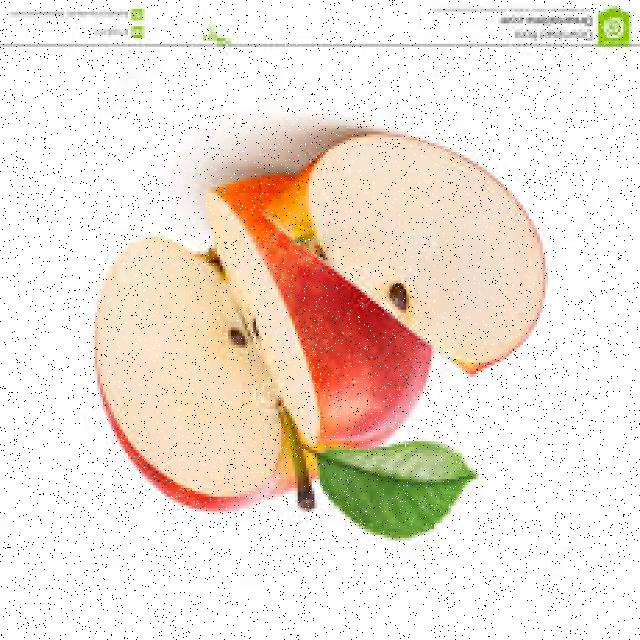Apple: (96, 130, 370, 507), (266, 128, 548, 374)
